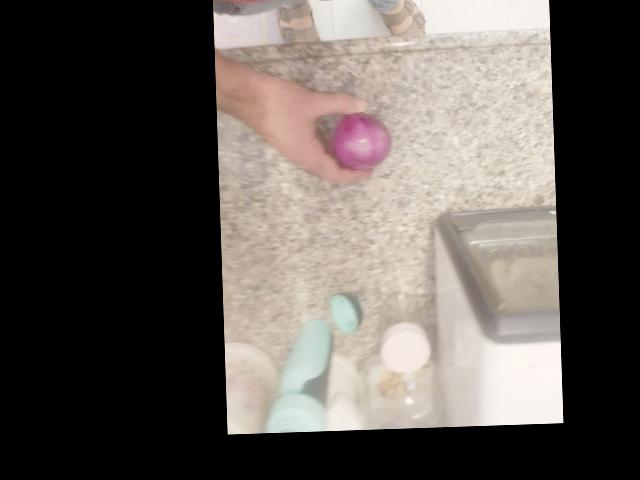onion: (469, 202, 538, 264)
